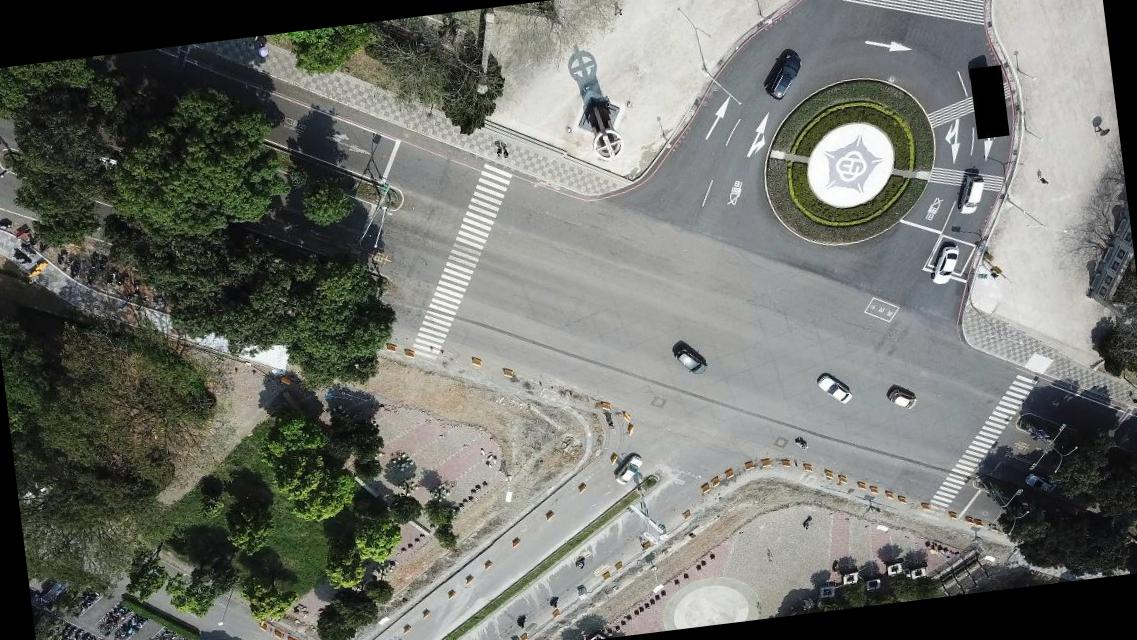vehicle: (760, 51, 804, 101), (926, 244, 964, 287), (953, 172, 986, 216), (816, 370, 854, 407), (671, 342, 708, 378), (611, 454, 643, 486), (1024, 472, 1056, 496), (886, 386, 917, 410)
